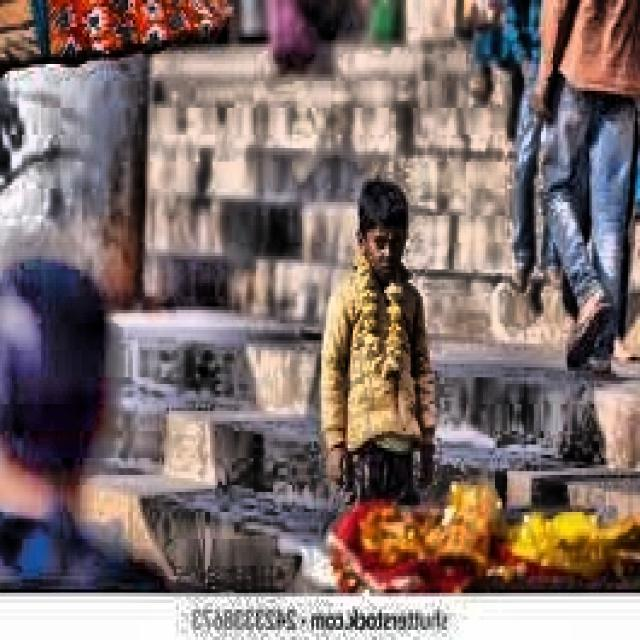Human: (301, 150, 481, 515)
